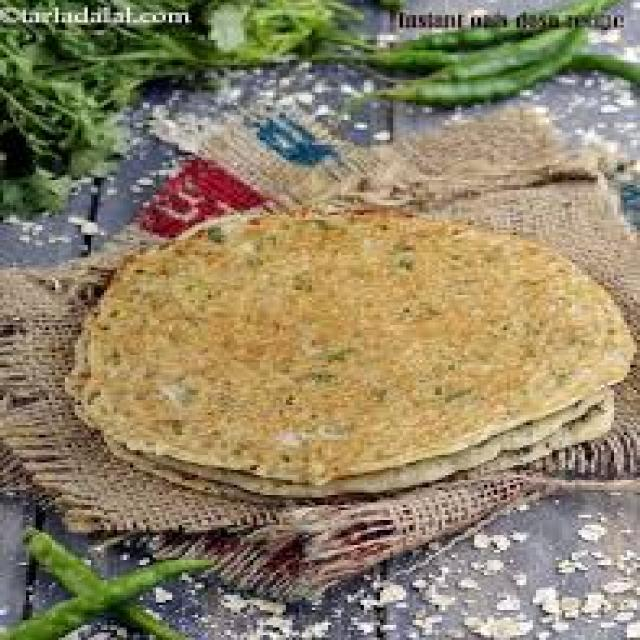DOSA: (65, 202, 634, 495)
